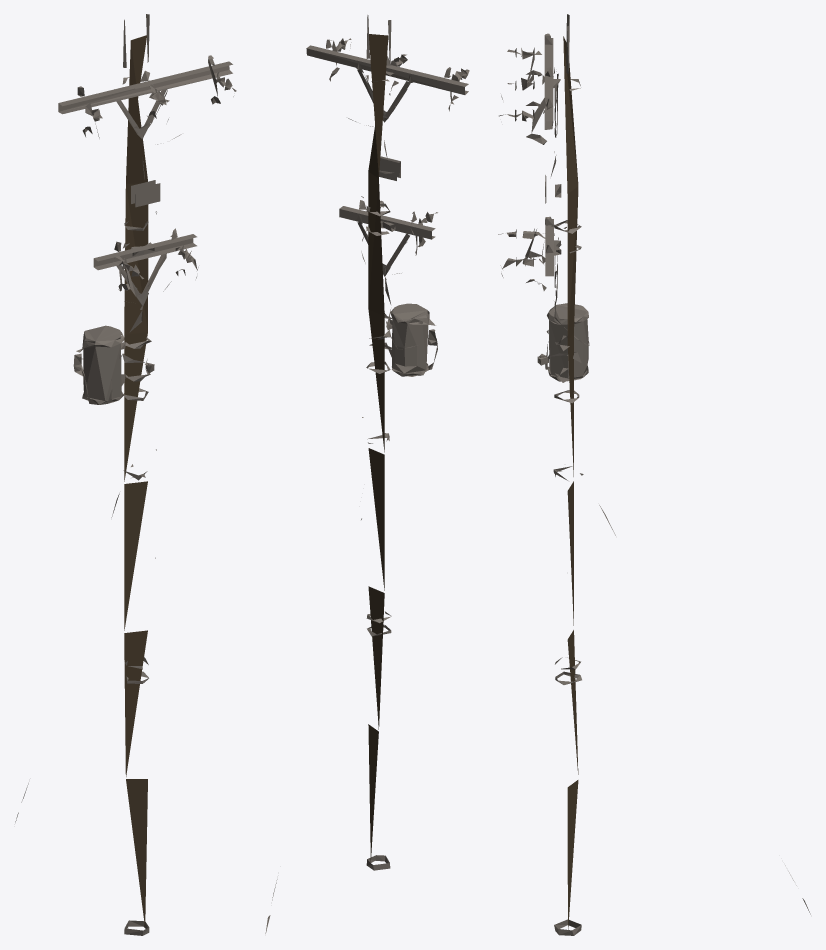
Rendered from power-pole-lod1.glb.
3 views of the same model, side by side, from view 1: azimuth 30°, elevation 25°; view 2: azimuth 150°, elevation 25°; view 3: azimuth 270°, elevation 25° (orthographic). The views are drawn at different scales.
Size of the model in its own units: 1.2 by 6.13 by 1.91.
